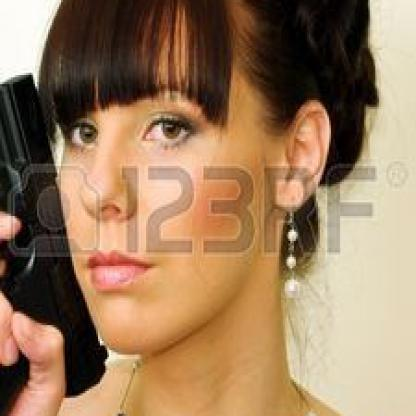gun: (0, 45, 109, 414)
